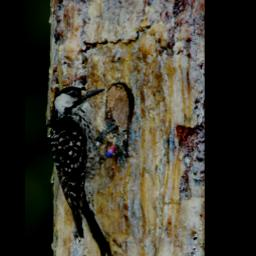Woodpecker: (48, 86, 127, 256)
